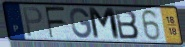6: (141, 9, 163, 43)
B: (113, 9, 141, 41)
F: (44, 6, 67, 40)
G: (69, 7, 93, 40)
M: (87, 6, 123, 42)
P: (21, 6, 44, 38)
